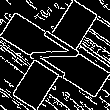N_SE: (23, 25, 87, 85)
